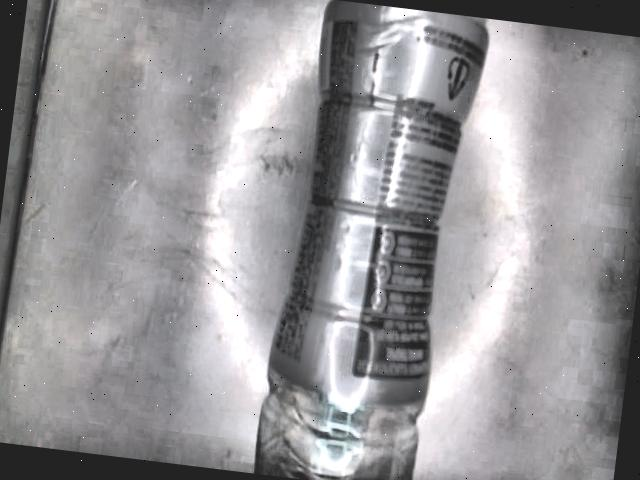Bottles: (260, 0, 488, 480)
